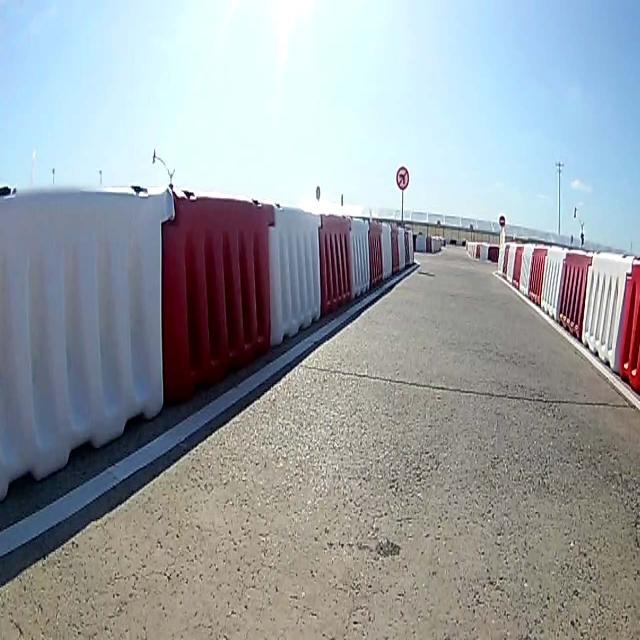soladonulmez: (394, 163, 411, 190)
